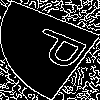P: (25, 25, 100, 76)
